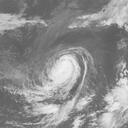cyclone: (25, 52, 88, 119)
